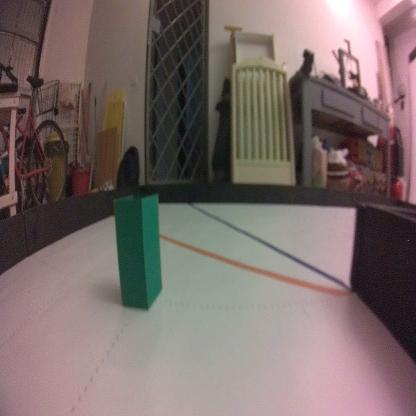green: (112, 187, 162, 314)
